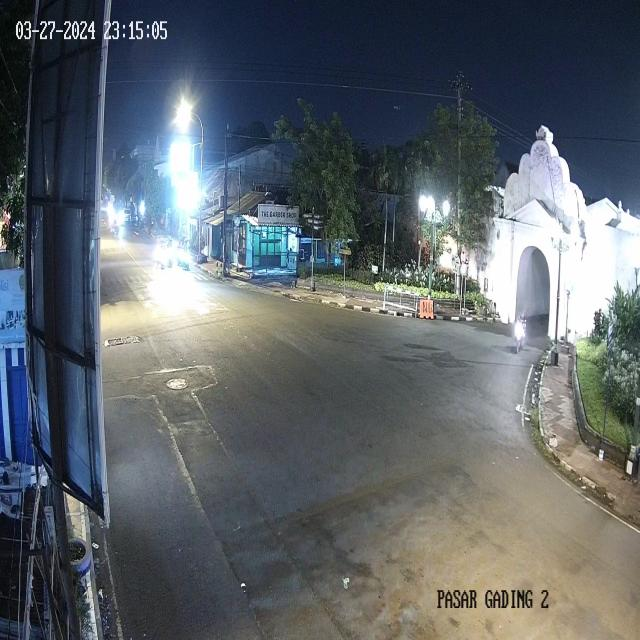motorcycle: (516, 312, 528, 361), (182, 239, 192, 271), (176, 237, 184, 269), (166, 236, 174, 265)
